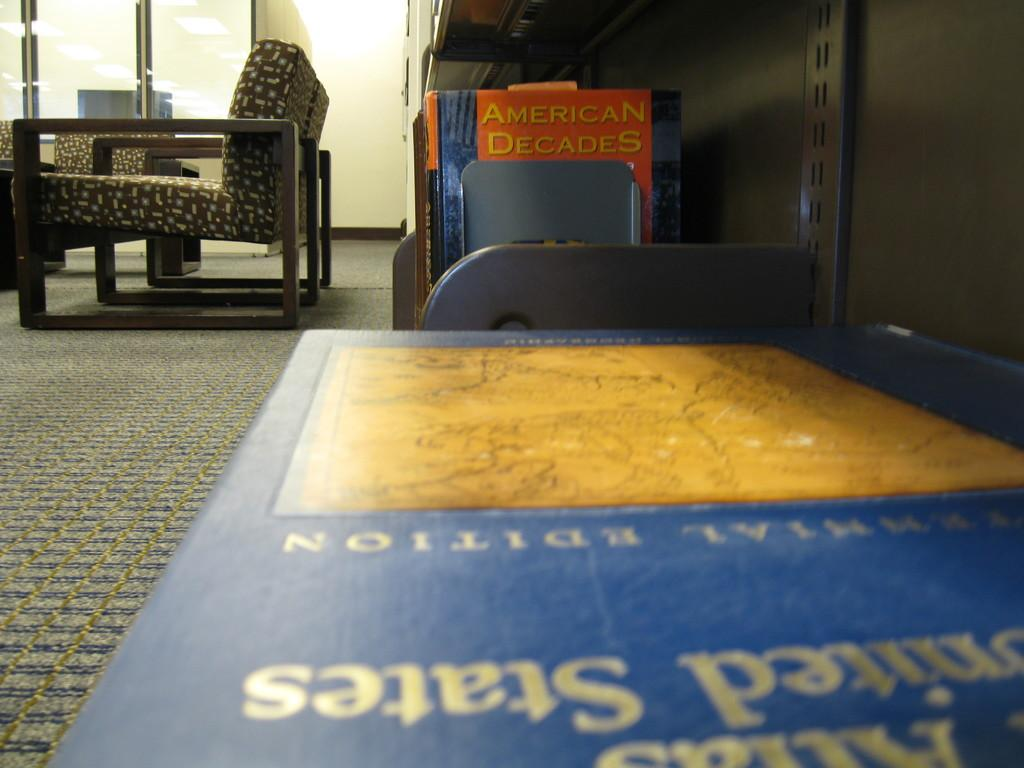Chair: (12, 76, 330, 307)
